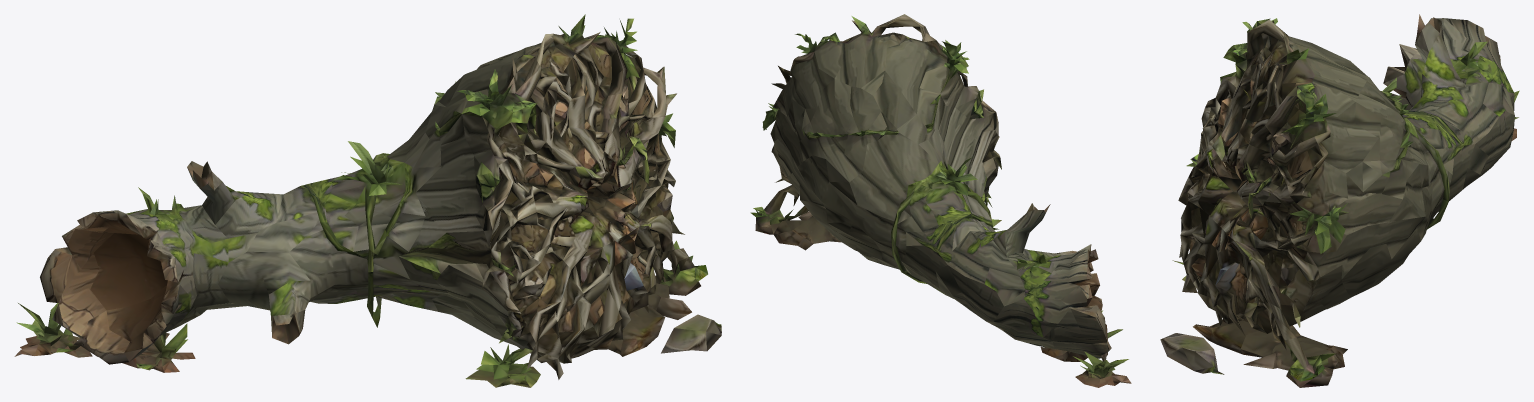
The model's file is arvore_tombada.glb.
The picture shows the model from 3 angles, left to right: view 1: azimuth 30°, elevation 25°; view 2: azimuth 150°, elevation 25°; view 3: azimuth 270°, elevation 25°; orthographic projection. The views are drawn at different scales.
Parts seen in each view (by area): view 1: geometry_0; view 2: geometry_0; view 3: geometry_0.
Boxes of the visible parts, <box> form: geometry_0: <box>14,14,721,387</box>; geometry_0: <box>750,14,1131,387</box>; geometry_0: <box>1160,14,1519,387</box>.
Size of the model in its own units: 0.965 by 0.4739 by 0.5305.
Materials: 1 (1 with a texture image).
